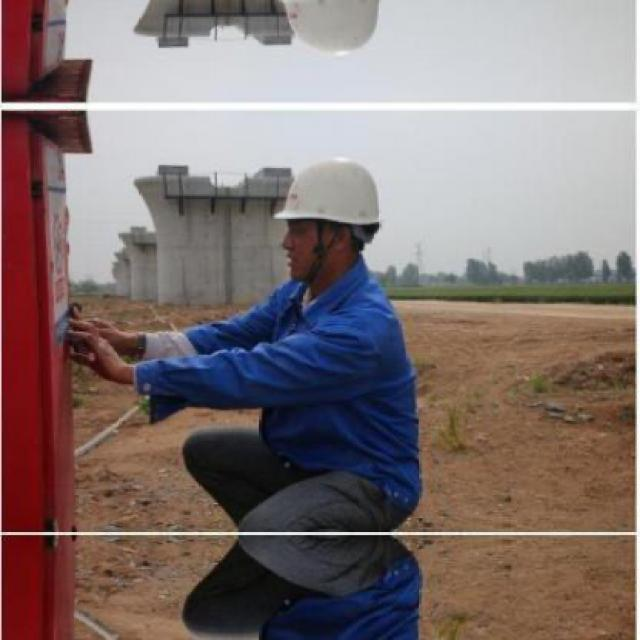helmet: (272, 148, 391, 278), (273, 0, 393, 66)
